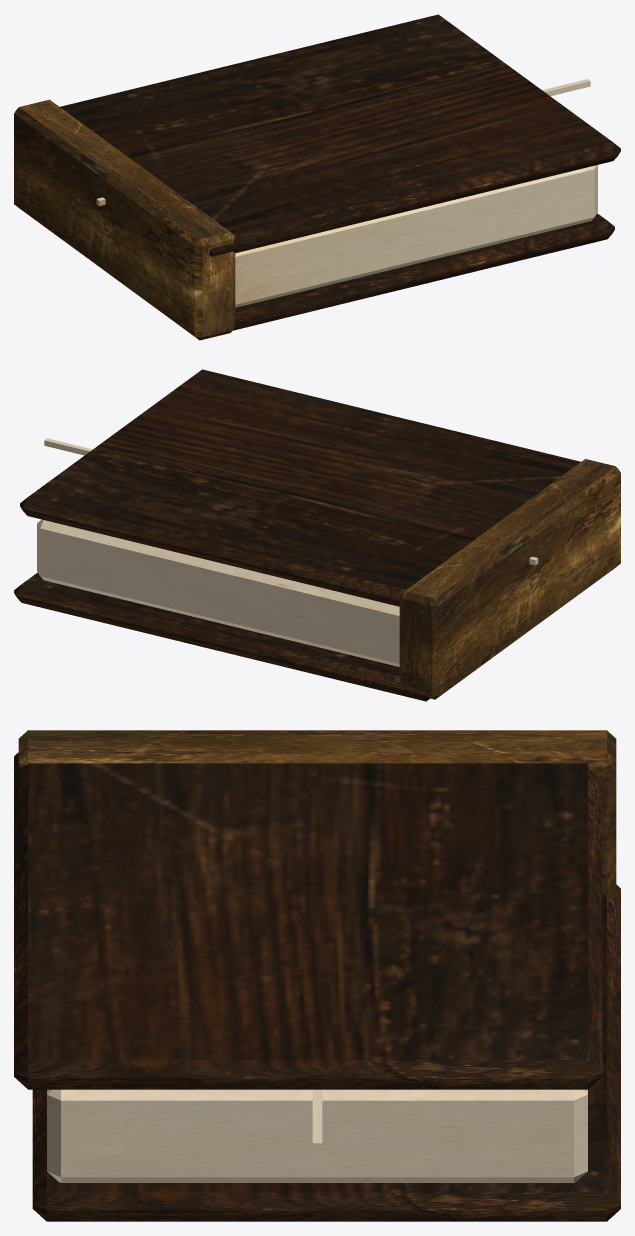
File: bedside_worn_notebook.glb
The picture shows the model from 3 angles, top to bottom: view 1: azimuth 30°, elevation 25°; view 2: azimuth 150°, elevation 25°; view 3: azimuth 270°, elevation 25°; orthographic projection. The views are drawn at different scales.
Parts seen in each view (by area): view 1: BookFrontCover, BookSpine, BookPages, BookBackCover; view 2: BookFrontCover, BookSpine, BookPages, BookBackCover; view 3: BookFrontCover, BookPages, BookBackCover, BookSpine, BookPageBand.002.
Part boxes in pixels (box(x1,y1,x2,y2)): BookFrontCover: box(60, 14, 620, 256); BookSpine: box(14, 99, 235, 340); BookPages: box(235, 165, 597, 307); BookBackCover: box(232, 213, 614, 330); BookFrontCover: box(20, 369, 580, 606); BookSpine: box(399, 459, 620, 699); BookPages: box(37, 519, 399, 666); BookBackCover: box(14, 572, 429, 701); BookFrontCover: box(14, 752, 602, 1089); BookPages: box(47, 1089, 587, 1182); BookBackCover: box(32, 884, 620, 1221); BookSpine: box(18, 730, 616, 900); BookPageBand.002: box(312, 1089, 322, 1151).
Size of the model in its own units: 0.193 by 0.0395 by 0.129.
3 materials, 3 textured.
